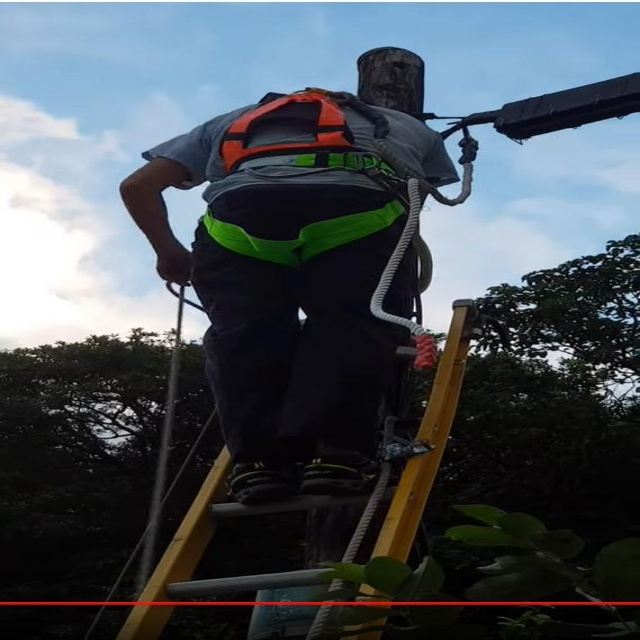Arnes_seguridad: (198, 88, 417, 269)
